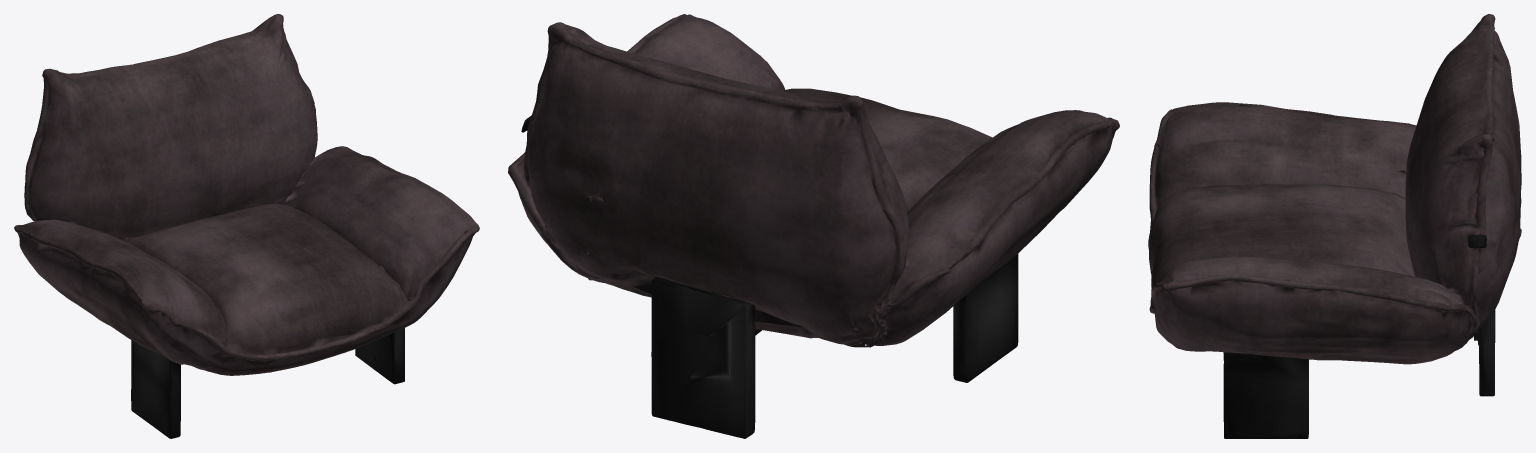
Rendered from plum-lounge-chair.glb.
3 renders of one model, left to right at view 1: azimuth 30°, elevation 25°; view 2: azimuth 150°, elevation 25°; view 3: azimuth 270°, elevation 25°, orthographic. The views are drawn at different scales.
Parts seen in each view (by area): view 1: world; view 2: world; view 3: world.
Part boxes in pixels (left/top/right/bottom): world: left=14, top=14, right=479, bottom=438; world: left=508, top=14, right=1119, bottom=438; world: left=1148, top=14, right=1521, bottom=438.
Bounding box in the file's own units: 0.9991 × 0.7958 × 0.8912.
Materials: 1 (1 with a texture image).
